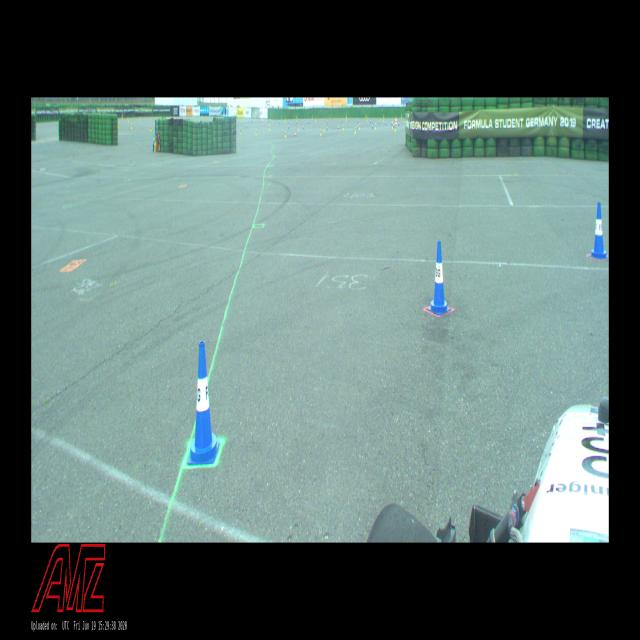blue_cone: (188, 341, 220, 465), (428, 241, 452, 314), (590, 203, 608, 259)
